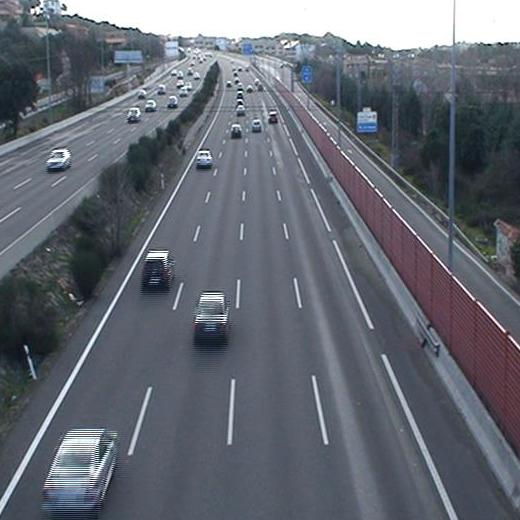car: (40, 425, 123, 510), (191, 290, 231, 339), (140, 250, 175, 288), (194, 149, 213, 168), (266, 108, 281, 123), (229, 124, 245, 137), (234, 103, 248, 117), (250, 120, 264, 132), (234, 90, 245, 101)
